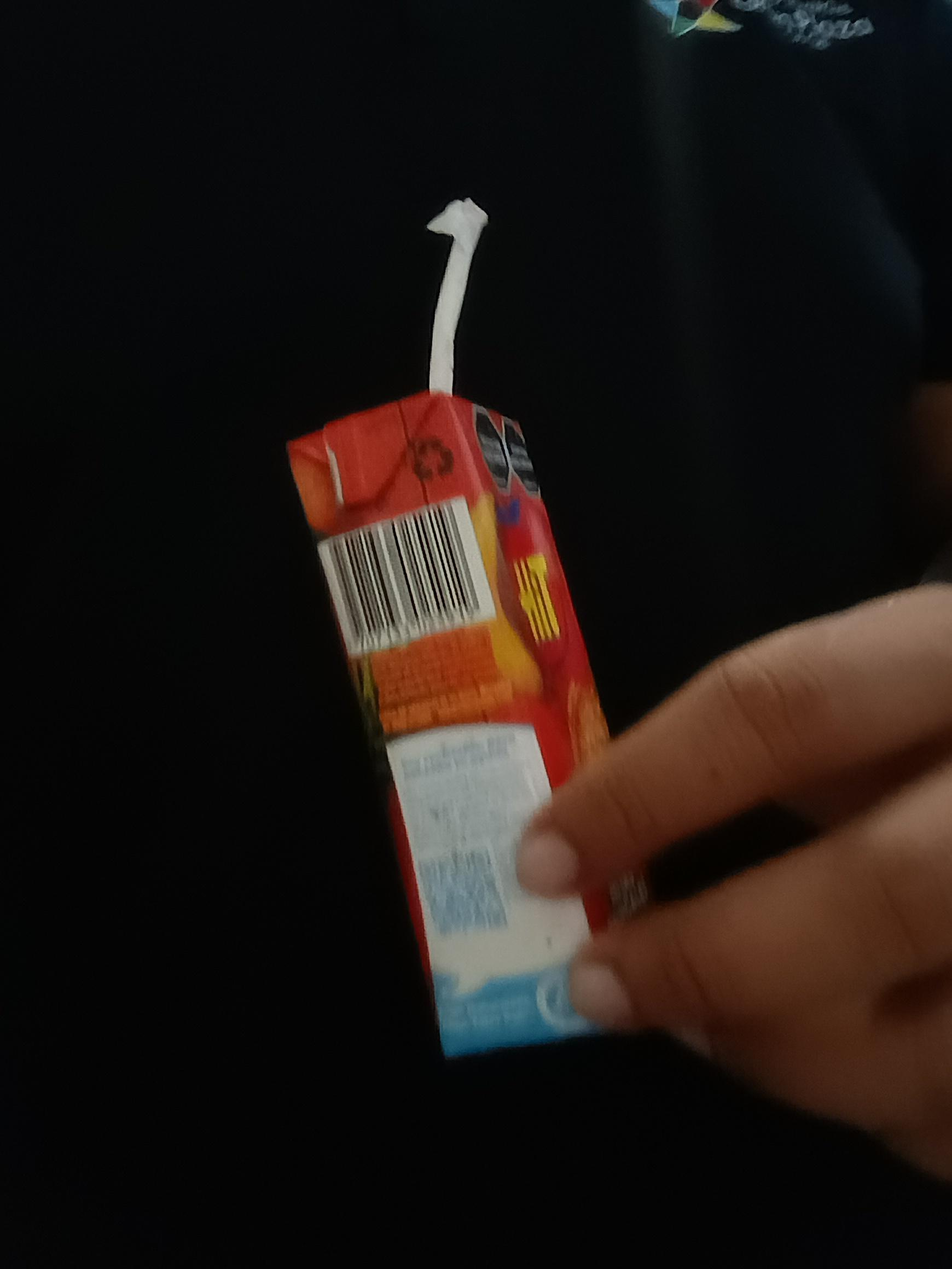Carton: (283, 404, 650, 1060)
